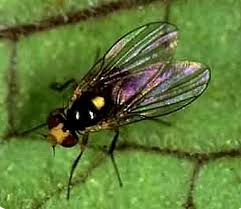Trifoli: (34, 23, 211, 167)
